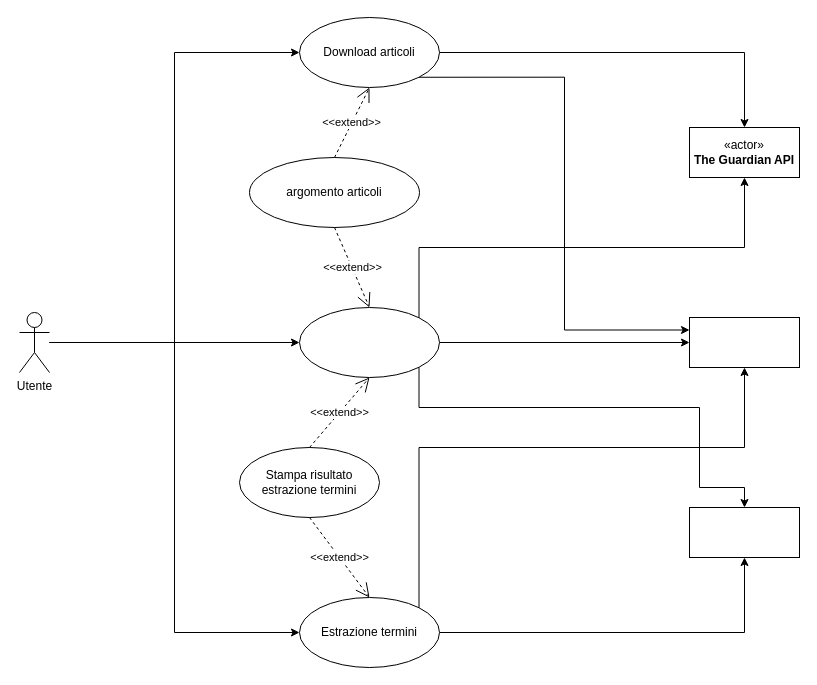
Some shapes in this 817 by 685 pixel diagram are drawn without their labels. Here are the shapes that lost their labels. From the top down, the centre of each, then its label:
the point at 369,342: Download articoli ed estrazione termini
the point at 744,342: «actor» Sistema di gestione file
the point at 744,532: «actor» Calcolatore parole
